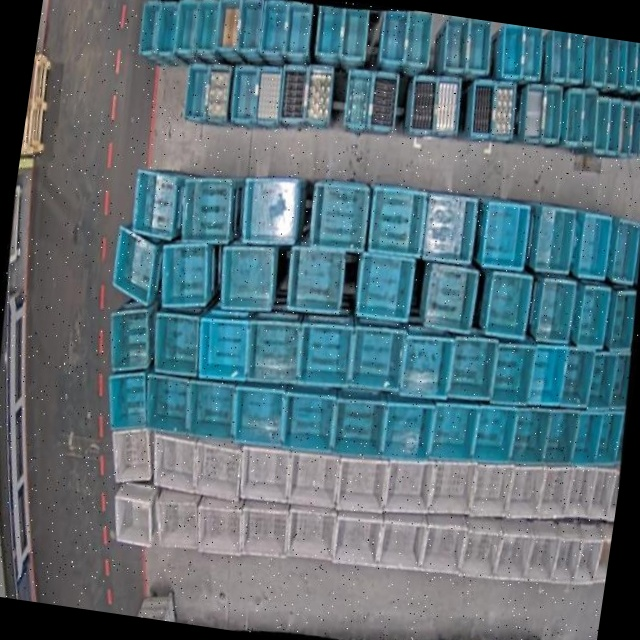Box: (213, 237, 284, 317), (352, 249, 421, 327), (365, 182, 433, 261), (418, 256, 484, 337), (106, 219, 165, 309), (283, 240, 351, 318), (176, 171, 241, 252), (306, 177, 374, 254), (237, 171, 305, 248), (154, 234, 219, 312), (145, 304, 208, 383), (126, 164, 188, 243), (243, 313, 308, 388), (192, 311, 257, 385), (346, 322, 412, 394), (293, 317, 359, 389), (329, 388, 392, 463), (420, 190, 482, 265), (278, 386, 342, 458), (138, 366, 200, 438), (399, 329, 458, 402), (480, 267, 537, 342), (103, 301, 160, 376), (230, 381, 291, 451), (146, 423, 206, 494), (479, 197, 535, 273), (444, 332, 502, 405), (183, 374, 244, 443), (190, 432, 248, 504), (379, 394, 439, 463), (191, 492, 252, 559), (236, 439, 297, 505), (101, 363, 157, 434), (149, 486, 206, 555), (335, 451, 394, 517), (487, 336, 541, 408), (236, 496, 294, 563), (428, 399, 484, 467), (104, 420, 160, 488), (282, 503, 341, 567), (286, 448, 344, 513), (375, 509, 431, 575), (384, 452, 439, 517), (531, 202, 580, 274), (110, 479, 161, 548), (419, 512, 472, 578), (458, 513, 508, 582), (331, 511, 387, 572), (532, 275, 580, 346), (428, 456, 480, 520), (527, 339, 573, 407), (466, 458, 518, 518), (572, 280, 615, 351), (502, 461, 552, 521), (472, 404, 520, 465), (523, 516, 566, 584), (508, 406, 555, 468), (574, 211, 616, 280), (494, 517, 537, 583), (536, 460, 579, 522), (542, 406, 584, 469), (551, 521, 590, 586), (227, 59, 264, 127), (202, 62, 239, 130), (302, 63, 339, 129), (560, 347, 599, 409), (367, 68, 402, 135), (570, 410, 608, 471), (341, 67, 377, 131), (608, 214, 640, 286), (572, 522, 608, 586), (467, 77, 502, 142), (252, 63, 287, 128), (431, 74, 467, 136), (407, 76, 443, 138), (586, 350, 623, 410), (607, 288, 640, 355), (584, 464, 621, 523), (536, 80, 569, 146), (489, 79, 523, 143), (182, 58, 216, 122), (440, 15, 477, 73), (277, 62, 311, 125), (282, 0, 318, 59), (563, 465, 601, 520), (337, 6, 374, 62), (378, 9, 413, 67), (518, 82, 550, 144), (403, 10, 437, 67), (595, 408, 628, 466), (258, 0, 292, 56), (464, 19, 498, 74), (575, 85, 603, 150), (314, 3, 347, 58), (213, 0, 247, 52), (499, 24, 531, 79), (235, 0, 268, 53), (608, 350, 636, 410), (518, 26, 549, 80), (193, 0, 224, 54), (589, 94, 616, 156), (155, 0, 184, 57), (561, 85, 588, 146), (135, 0, 164, 56), (173, 0, 202, 53), (613, 96, 637, 159), (547, 31, 575, 83), (562, 33, 591, 83), (603, 96, 626, 157), (592, 520, 614, 583), (587, 36, 613, 88), (600, 38, 625, 88), (620, 41, 640, 89), (624, 102, 640, 158), (630, 43, 640, 91), (634, 92, 640, 155)
